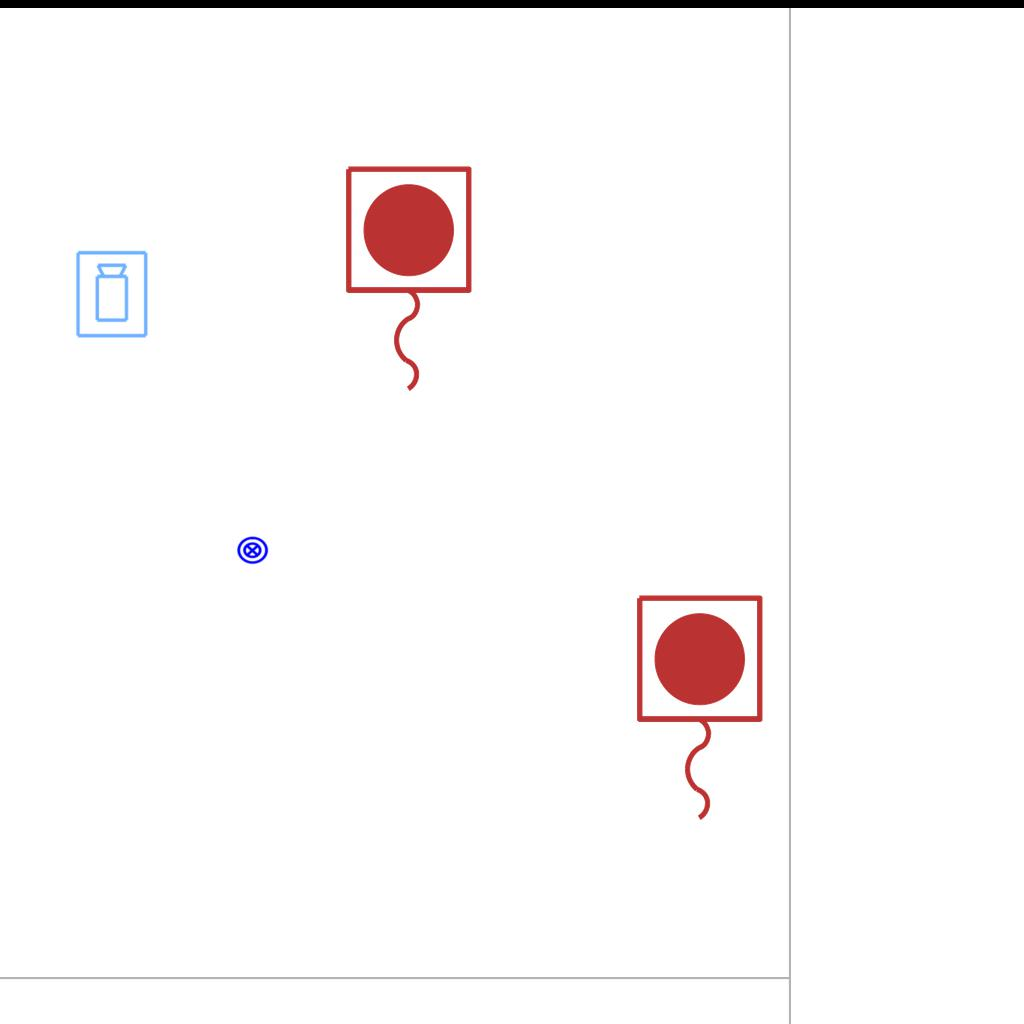KFO_Kamera_mit_Festobjektiv: (74, 249, 151, 340)
Taster_beleuchtet: (236, 534, 269, 567)
Zugtaster: (335, 158, 479, 402), (626, 587, 770, 831)
